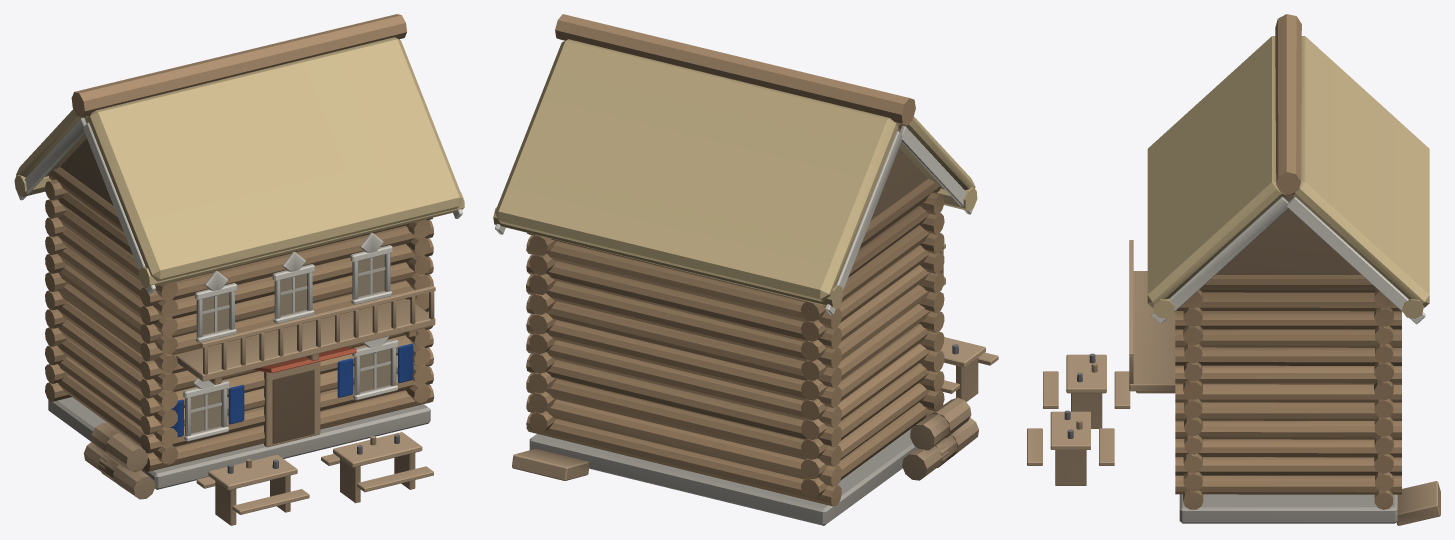
File: bld_traktir.glb
The picture shows the model from 3 angles, left to right: view 1: azimuth 30°, elevation 25°; view 2: azimuth 150°, elevation 25°; view 3: azimuth 270°, elevation 25°; orthographic projection. The views are drawn at different scales.
Parts seen in each view (by area): view 1: traktir; view 2: traktir; view 3: traktir.
Part boxes in pixels (x1,y1,x2,y2): traktir: (14,14,464,525); traktir: (493,14,998,525); traktir: (1027,14,1440,525).
Bounding box in the file's own units: 1.69 × 1.82 × 1.84.
